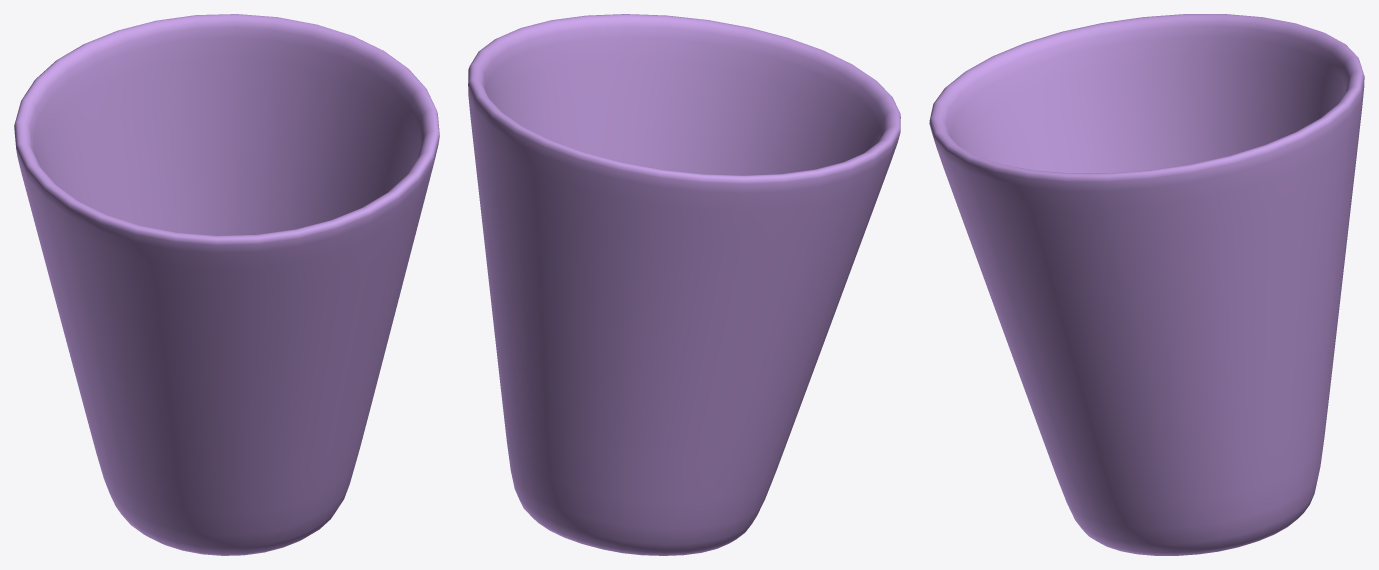
Rendered from waterCup.glb.
The picture shows the model from 3 angles, left to right: view 1: azimuth 30°, elevation 25°; view 2: azimuth 150°, elevation 25°; view 3: azimuth 270°, elevation 25°; orthographic projection. The views are drawn at different scales.
Visible parts, largest first — view 1: WaterCup; view 2: WaterCup; view 3: WaterCup.
Part boxes in pixels (<box>): WaterCup: <box>14,14,439,555</box>; WaterCup: <box>468,14,900,555</box>; WaterCup: <box>929,14,1364,555</box>.
Size of the model in its own units: 0.0832 by 0.0941 by 0.0829.
